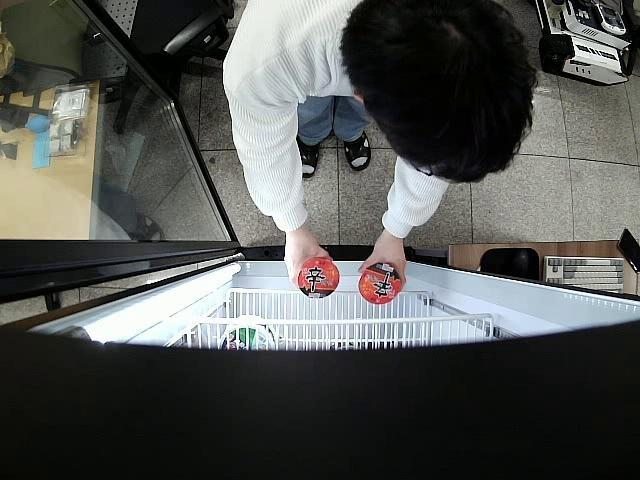02_shinRamen_S: (358, 265, 402, 304), (300, 258, 340, 297)
